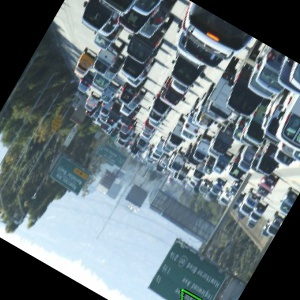triangle: (177, 286, 202, 300)
